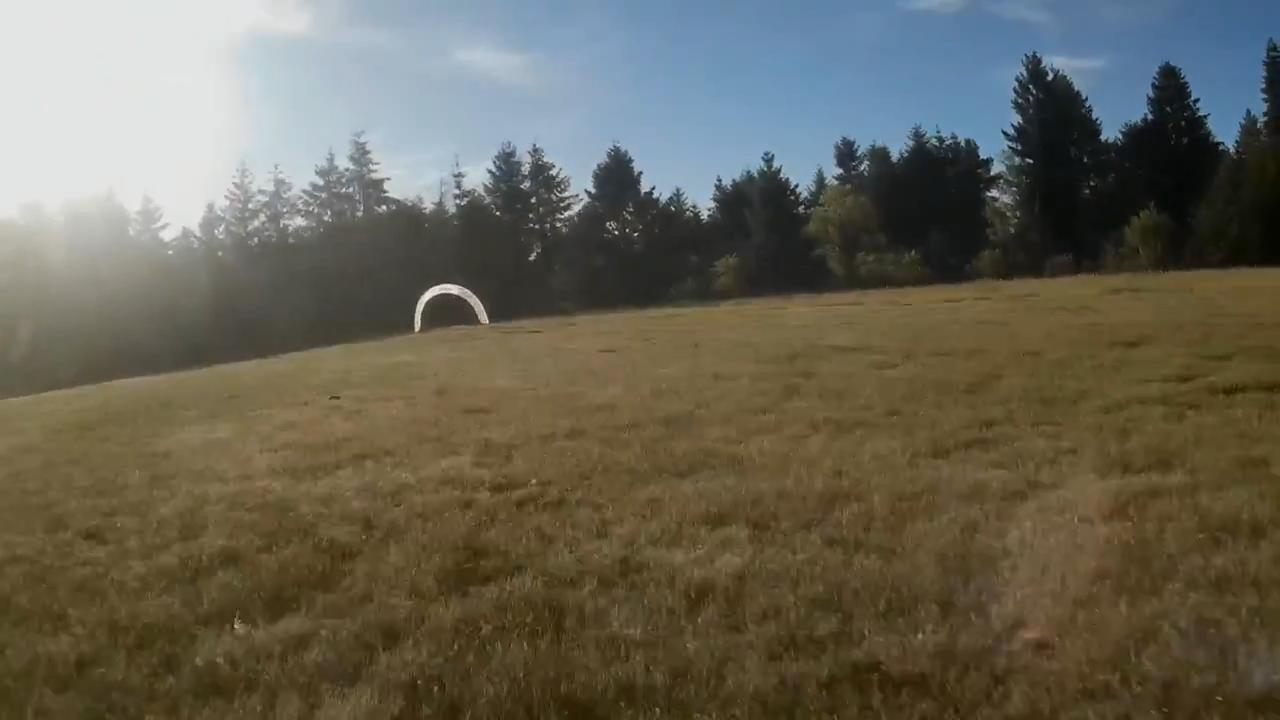gate: (412, 281, 487, 334)
